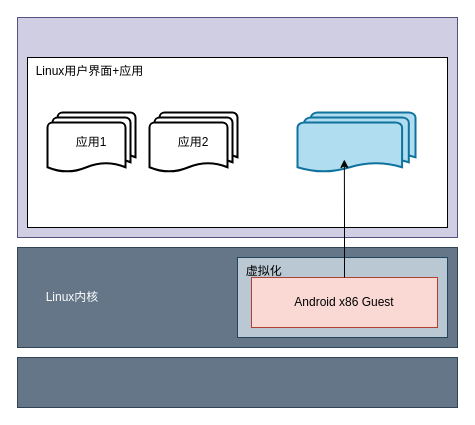
Image size: 475x425. Some labels were removed from this diagram. Each missing label, with the box of its shape:
GNU/Linux: (16, 16, 458, 238)
物理机: (16, 356, 458, 408)
虚拟机前端: (296, 111, 416, 173)
